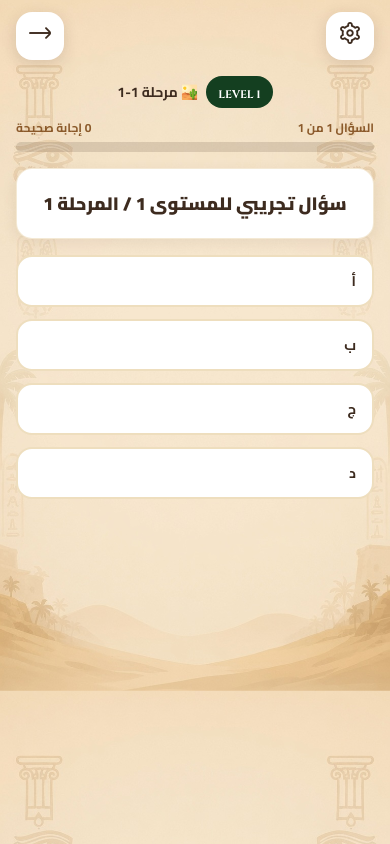
Test: QuizPage - الانتقال من مرحلة لمرحلة › ينتقل لمستوى جديد بالكامل عند إنهاء آخر مرحلة في المستوى
The image size is (390, 844).
Click the button "أ" at point(354, 281), box [16,255,374,307]
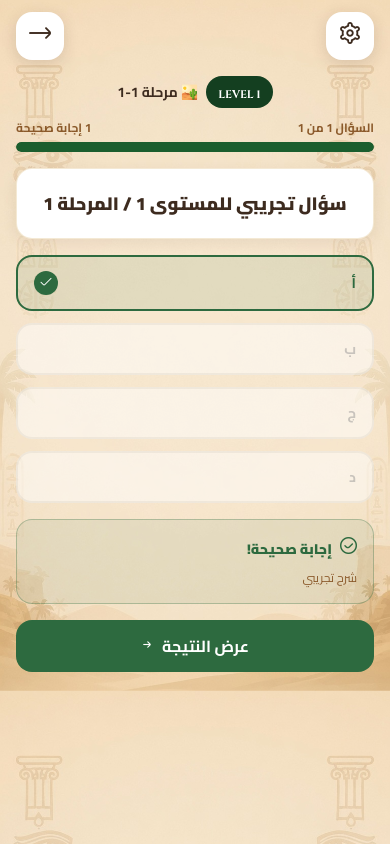
Click the button "عرض النتيجة" at point(195, 646), box [16,620,374,672]
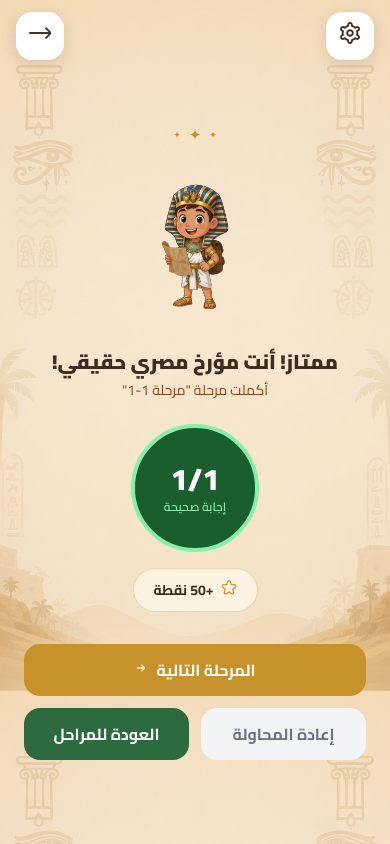
Click the button "المرحلة التالية" at point(195, 670), box [24,644,366,696]
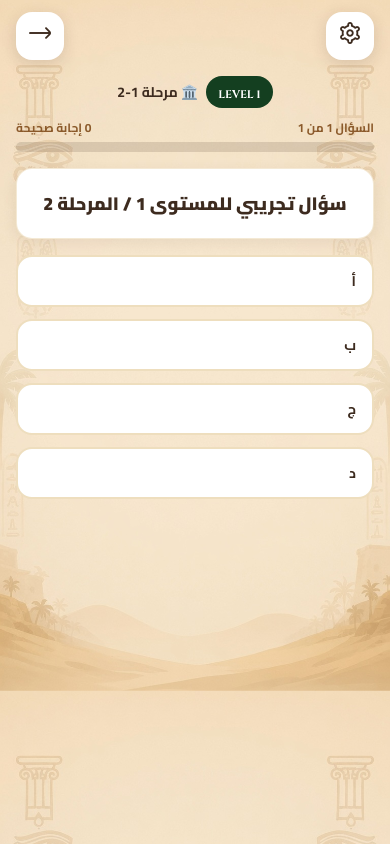
Result: the text "سؤال تجريبي للمستوى 1 / المرحلة 2" is shown at [37,189,353,218]
Click the button "أ" at point(354, 281), box [16,255,374,307]
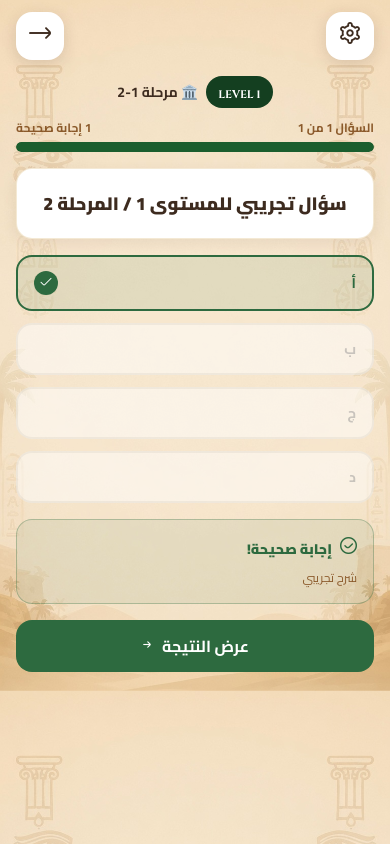
Click the button "عرض النتيجة" at point(195, 646), box [16,620,374,672]
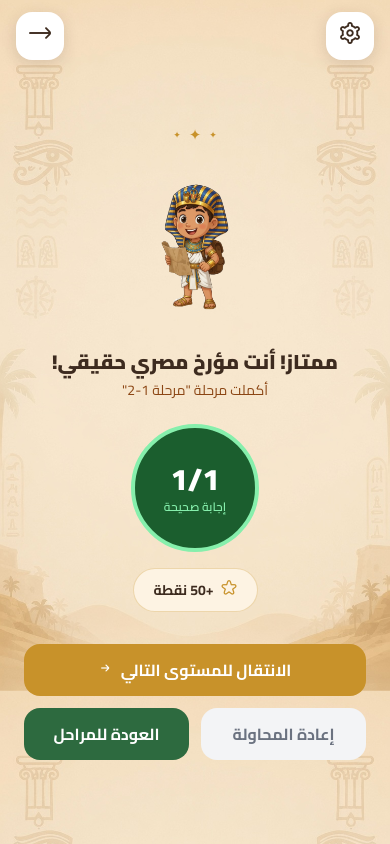
Click the button "الانتقال للمستوى التالي" at point(195, 670), box [24,644,366,696]
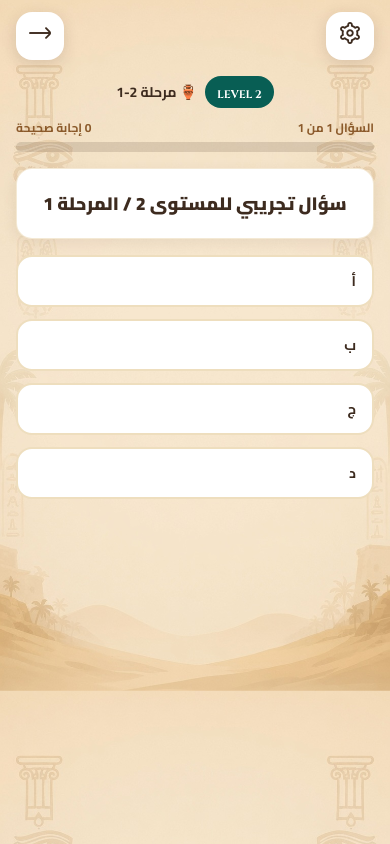
Result: the text "سؤال تجريبي للمستوى 2 / المرحلة 1" is shown at [37,189,353,218]
